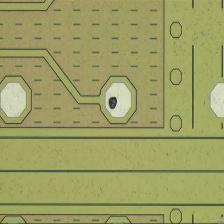PARTICLE: (108, 96, 120, 112)
